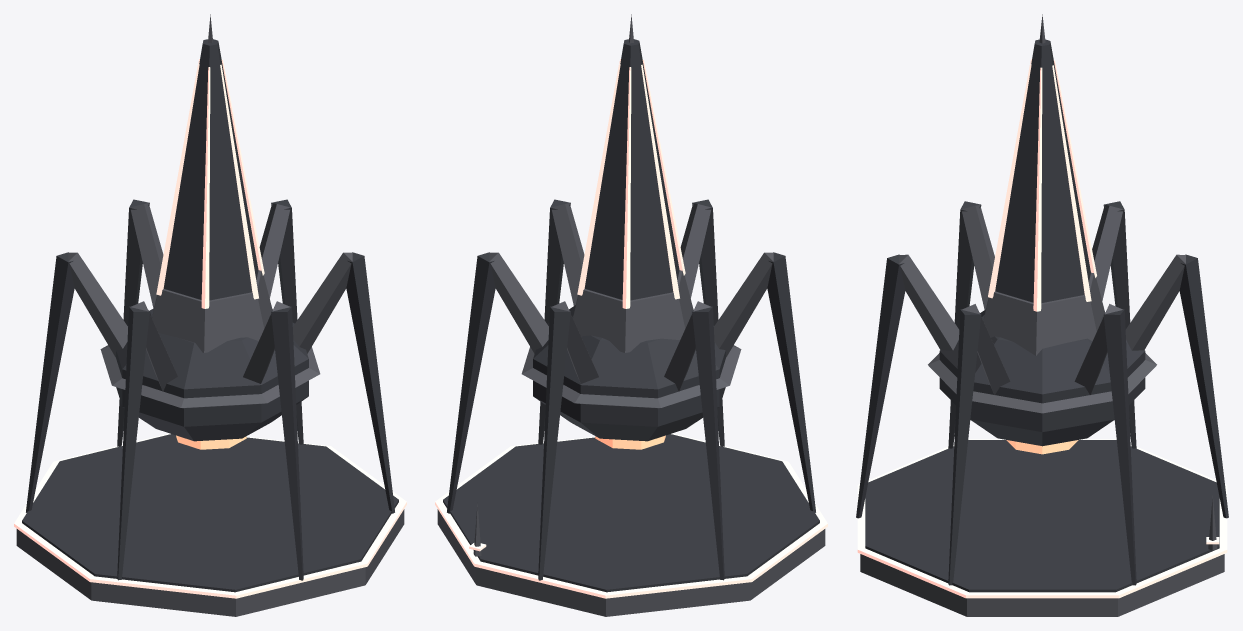
File: zone_high_4_t1.glb
3 views of the same model, side by side, from view 1: azimuth 30°, elevation 25°; view 2: azimuth 150°, elevation 25°; view 3: azimuth 270°, elevation 25° (orthographic).
Parts seen in each view (by area): view 1: zone_high_4_t1; view 2: zone_high_4_t1; view 3: zone_high_4_t1.
Part boxes in pixels (x1=…): zone_high_4_t1: x1=14, y1=14, x2=406, y2=616; zone_high_4_t1: x1=435, y1=14, x2=827, y2=616; zone_high_4_t1: x1=856, y1=14, x2=1228, y2=616.
Size of the model in its own units: 27.35 by 42.94 by 27.6.
